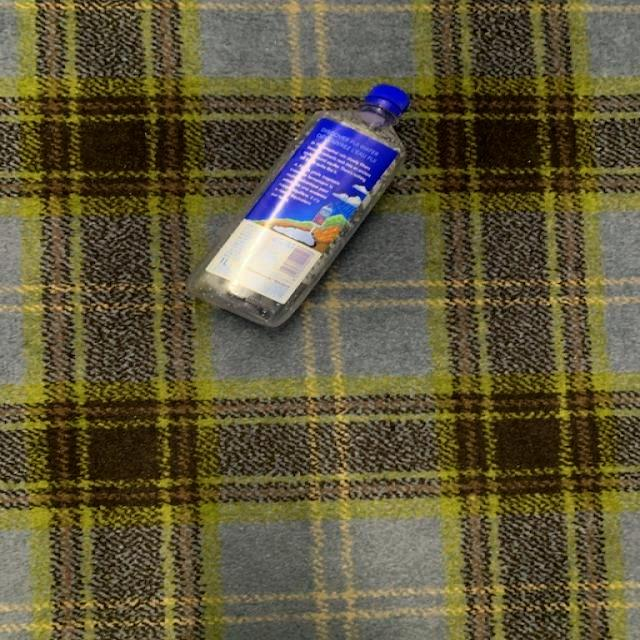bottle: (186, 84, 410, 327)
